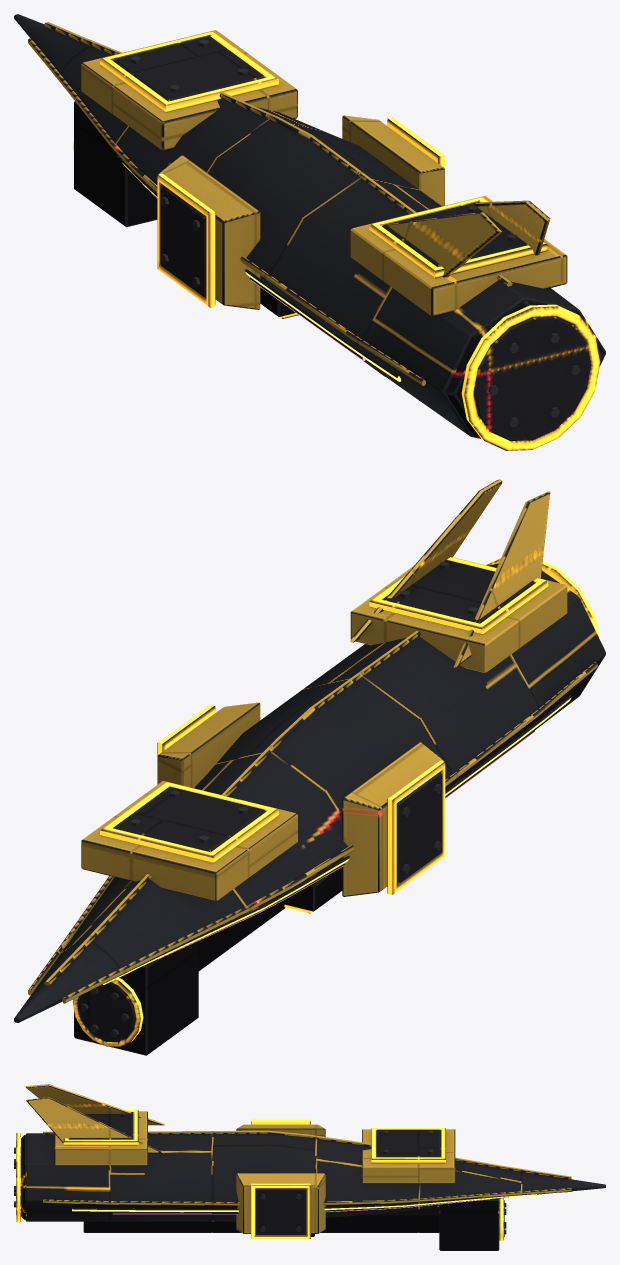
File: casco_caza_t4.fbx
3 renders of one model, top to bottom at view 1: azimuth 30°, elevation 25°; view 2: azimuth 150°, elevation 25°; view 3: azimuth 270°, elevation 25°, orthographic. The views are drawn at different scales.
Parts seen in each view (by area): view 1: casco_caza_t4; view 2: casco_caza_t4, casco_caza_t4_neon; view 3: casco_caza_t4, casco_caza_t4_neon, casco_caza_t4_neon2.
Part boxes in pixels (x1,y1,x2,y2): casco_caza_t4: (14, 14, 605, 450); casco_caza_t4: (14, 479, 605, 1055); casco_caza_t4_neon: (103, 697, 571, 984); casco_caza_t4: (14, 1084, 605, 1250); casco_caza_t4_neon: (72, 1194, 536, 1211); casco_caza_t4_neon2: (113, 1199, 489, 1214).
Size of the model in its own units: 4.3 by 4.43 by 15.81.
